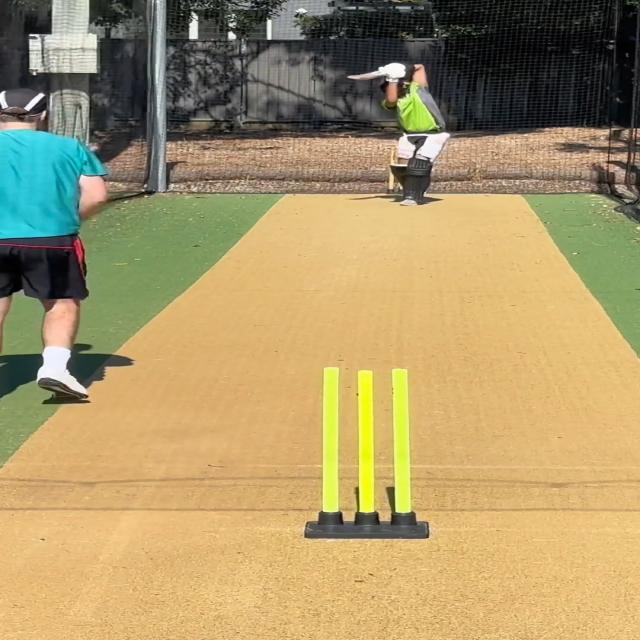stump: (302, 366, 430, 540)
